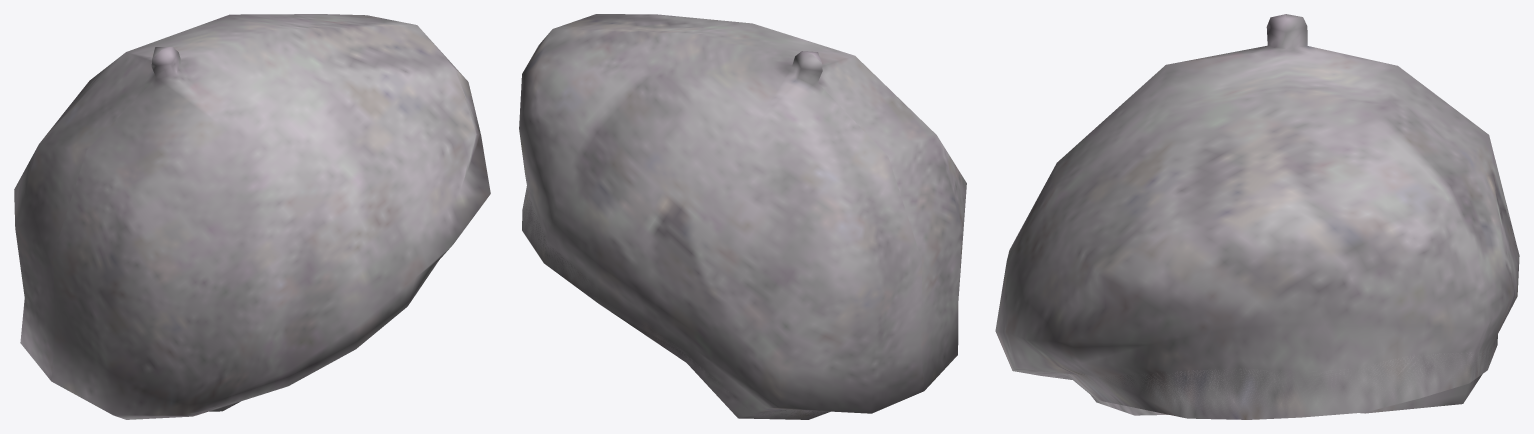
File: hat_0450046.FBX
3 renders of one model, left to right at view 1: azimuth 30°, elevation 25°; view 2: azimuth 150°, elevation 25°; view 3: azimuth 270°, elevation 25°, orthographic. The views are drawn at different scales.
Parts seen in each view (by area): view 1: hat_0450046; view 2: hat_0450046; view 3: hat_0450046.
Part boxes in pixels (box(x1,y1,x2,y2)): hat_0450046: box(14, 14, 490, 419); hat_0450046: box(519, 14, 966, 419); hat_0450046: box(995, 14, 1519, 419).
Bounding box in the file's own units: 26.4 × 22.03 × 24.9.
